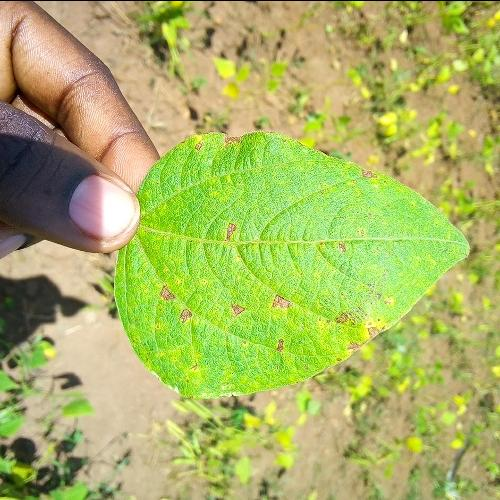hawar: (312, 284, 412, 362), (179, 130, 285, 159), (147, 277, 194, 330), (223, 294, 295, 325), (218, 217, 245, 244), (350, 166, 378, 180), (333, 240, 348, 256)
mozaik: (129, 179, 416, 367)
